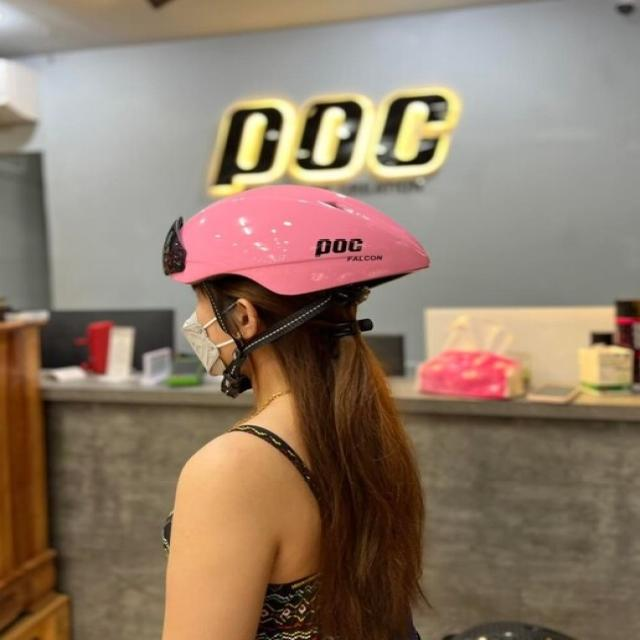Helmet: (156, 181, 437, 399)
